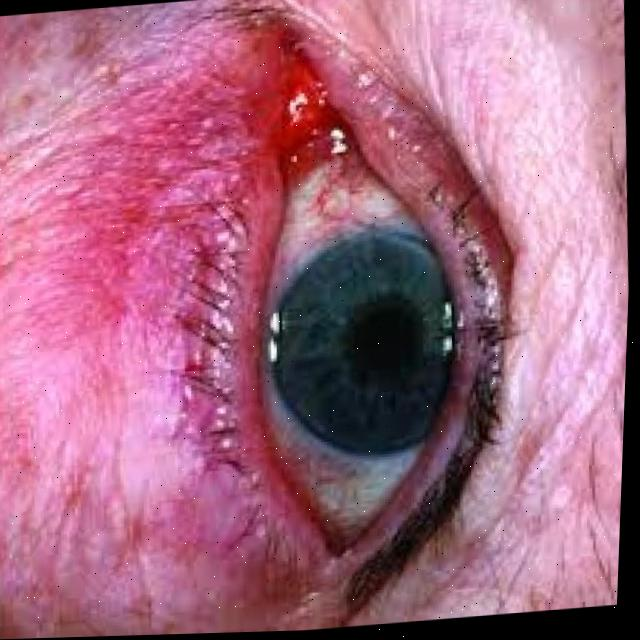Rosacea: (0, 87, 215, 640)
